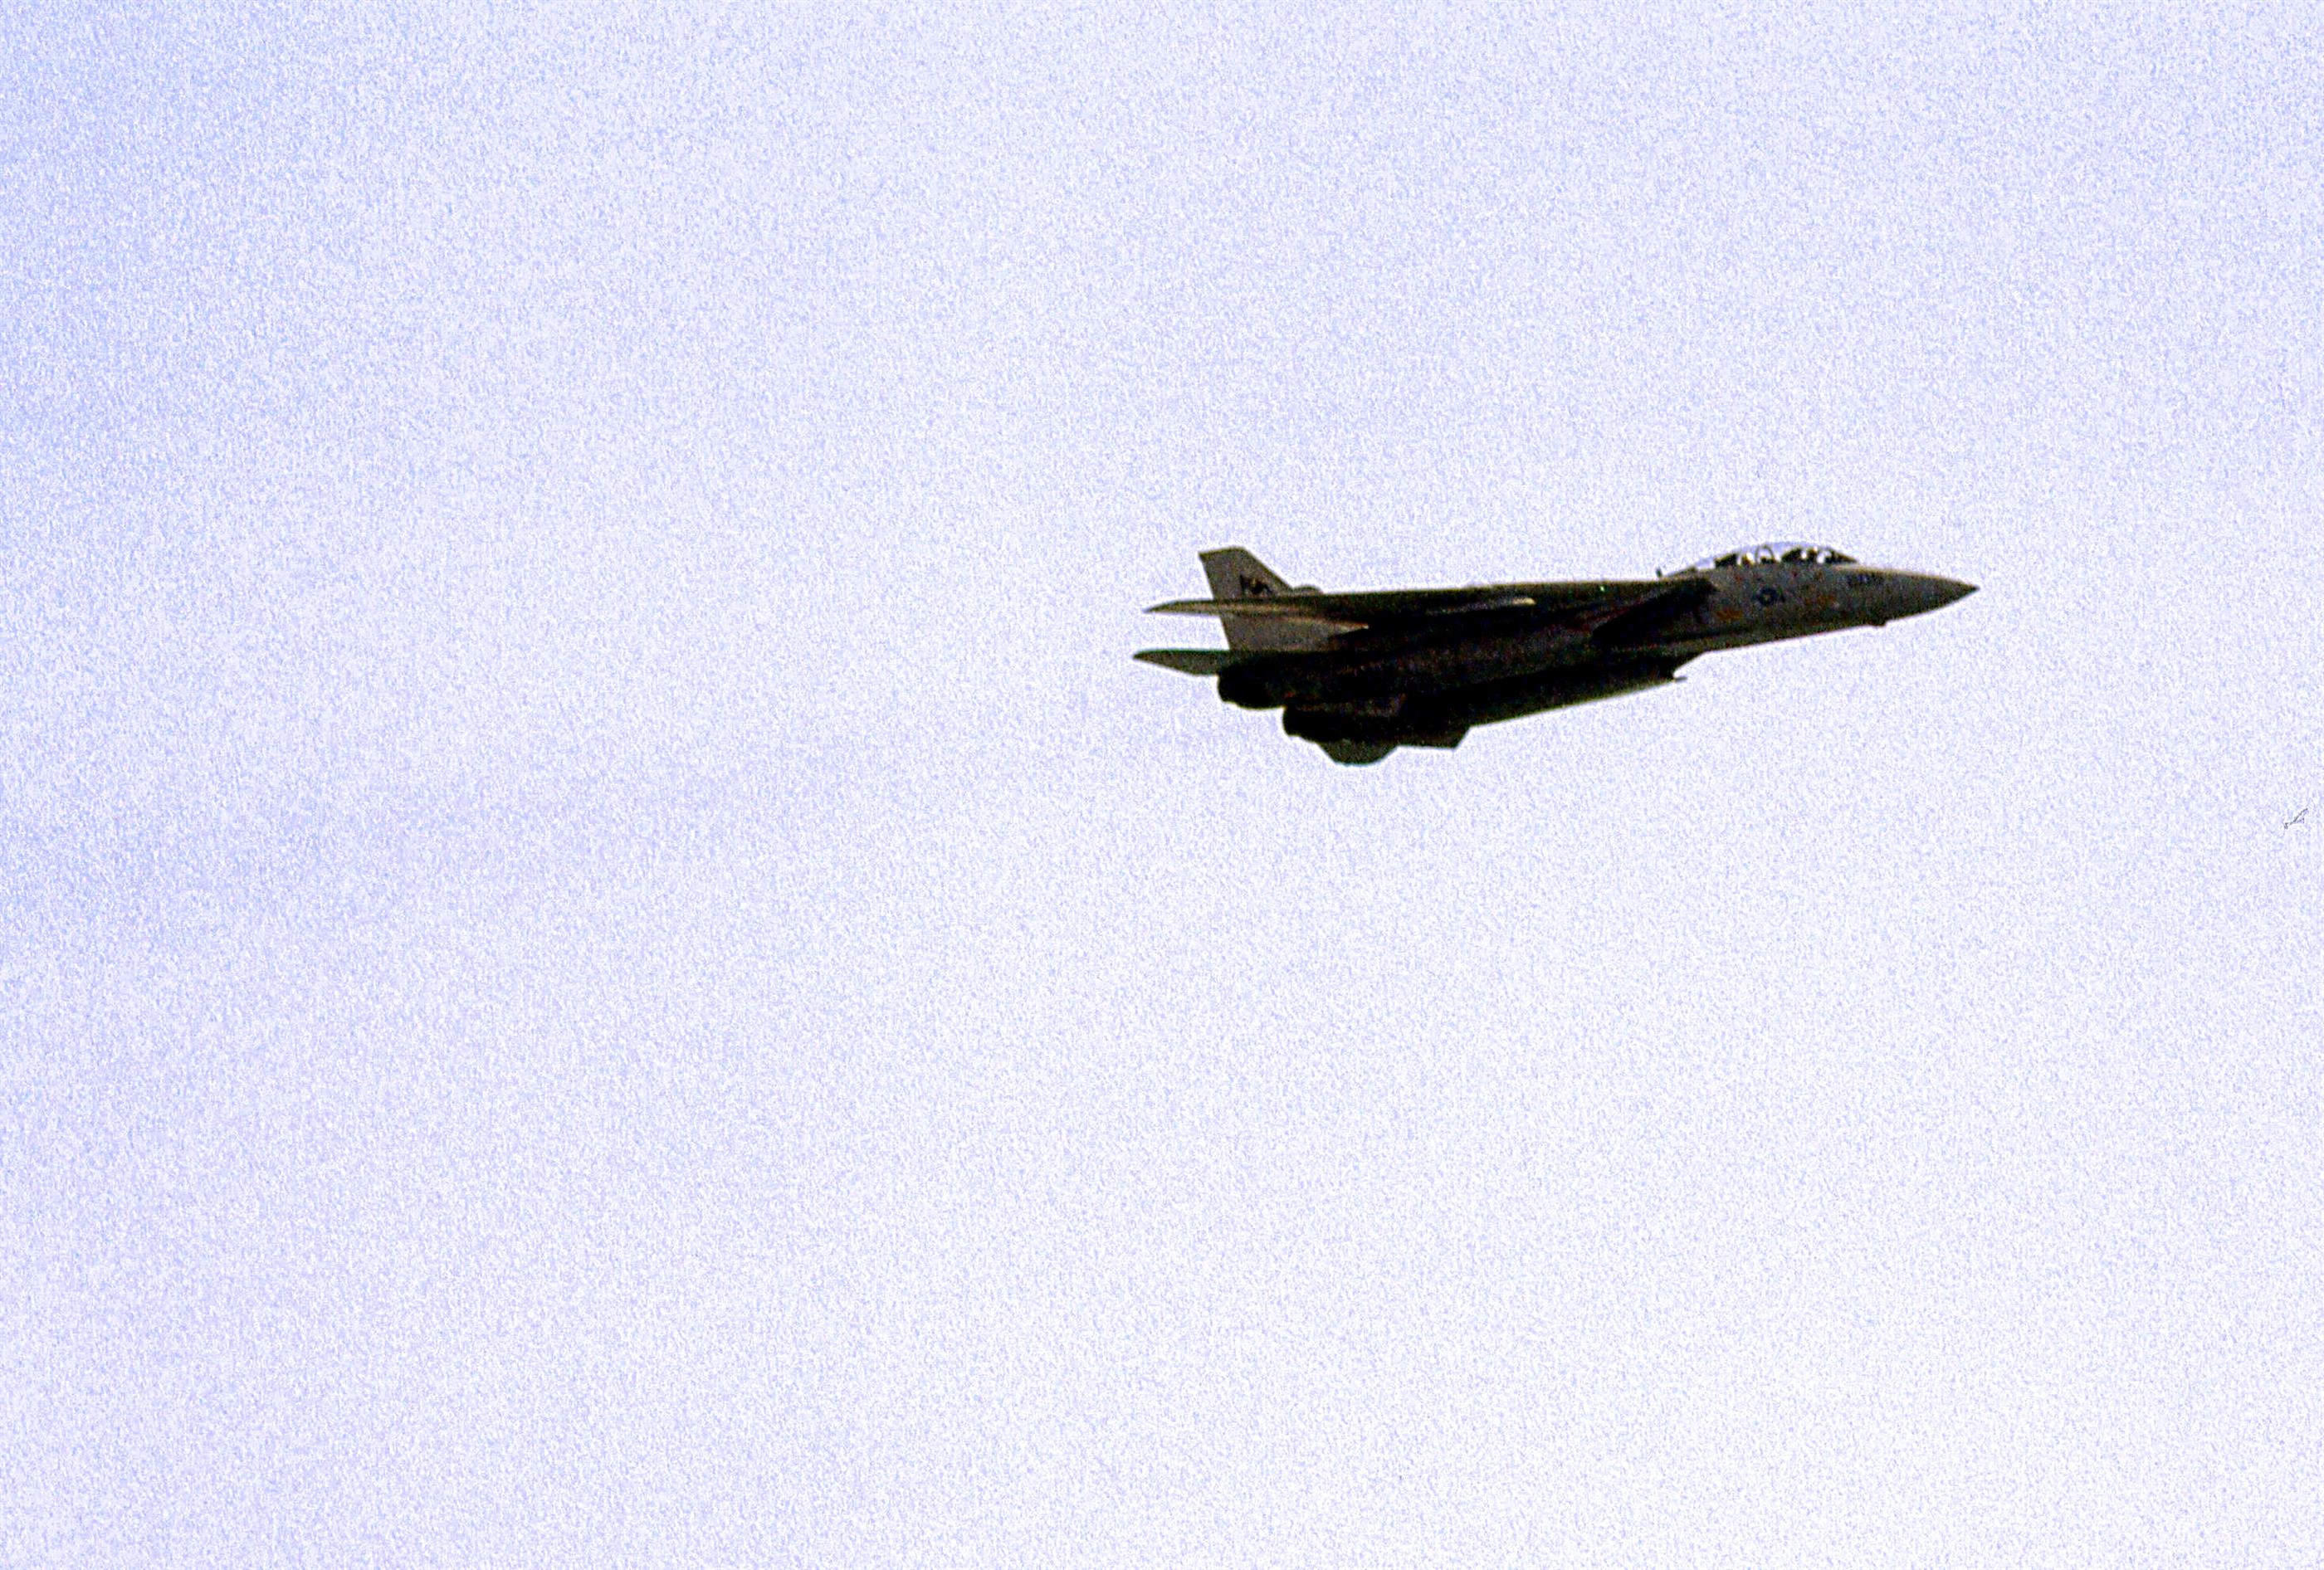F14: (1130, 541, 1980, 767)
